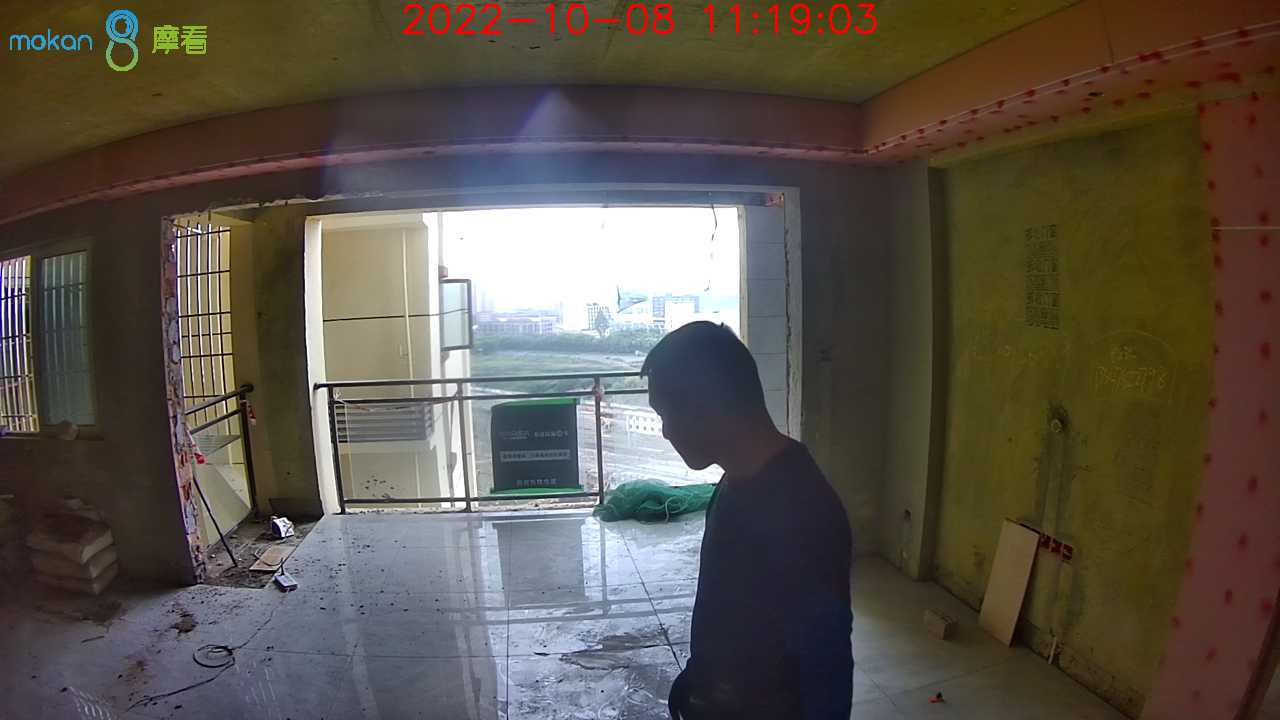people: (641, 319, 859, 720)
window: (311, 203, 758, 510)
